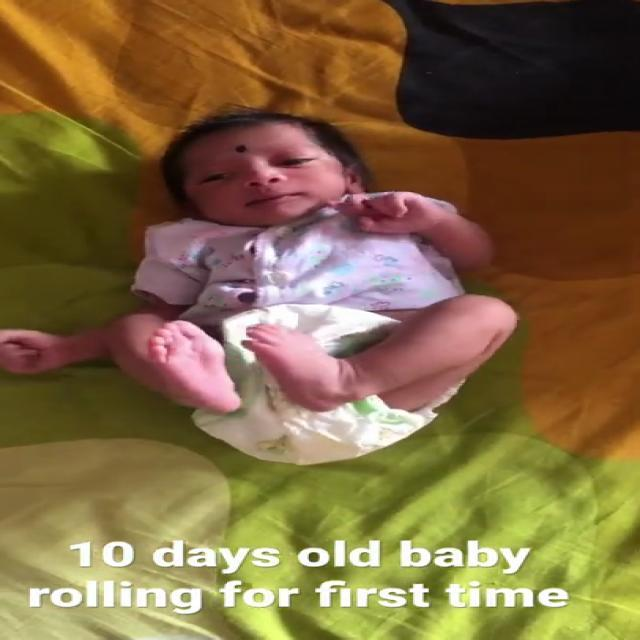baby: (0, 114, 522, 476)
